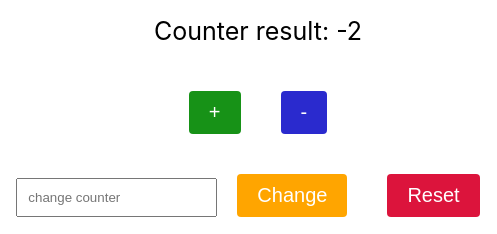
Test: renders the counter › should set input value to 200, change the counter by submit button, decrement value to 196
The image size is (497, 234).
Type "200" into the number field with test id "input-num".
click(117, 198); type("200")  # box [16, 178, 217, 217]
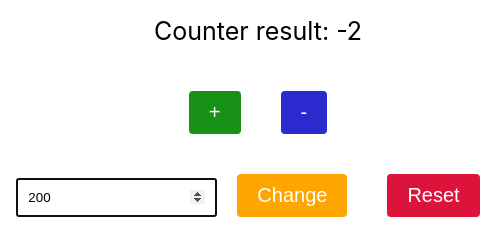
Submit the form, box [16, 174, 479, 217]
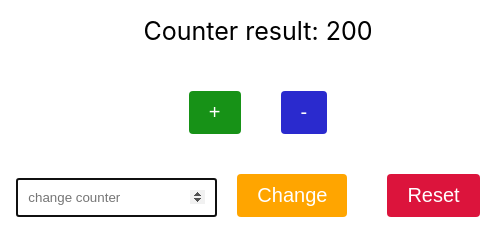
Check: the text "200" is shown, box [326, 16, 372, 46]
Double-click the button with test id "sub-btn".
double_click(305, 113)  # box [281, 91, 328, 134]
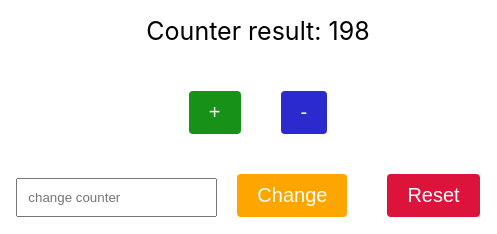
Double-click the button with test id "sub-btn".
double_click(305, 113)  # box [281, 91, 328, 134]
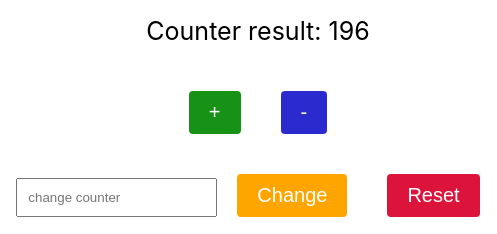
Check: the text "196" is shown, box [328, 16, 370, 46]
